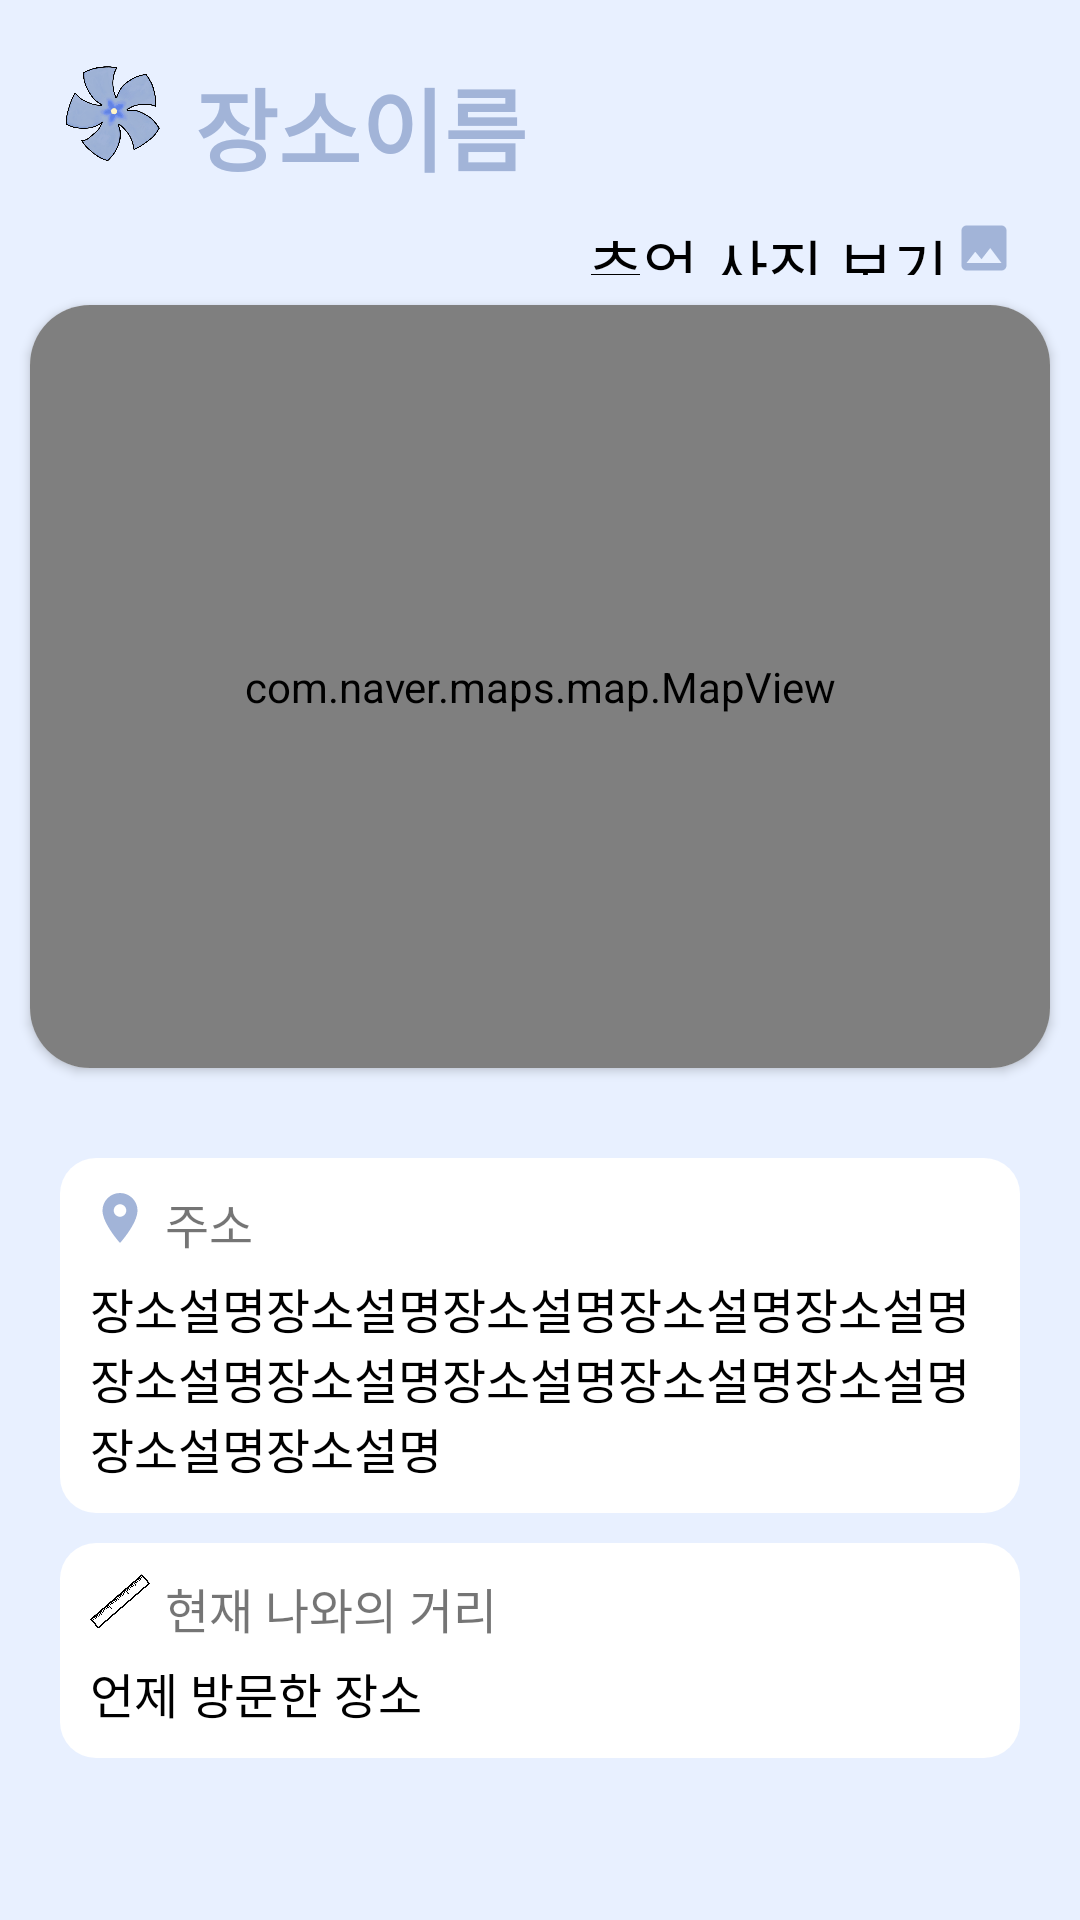

Icon click points for this 1080x1920 phone screenshot, format [x,y]:
insert photo: [984,248]
location on: [120,1218]
ruler: [120,1601]
